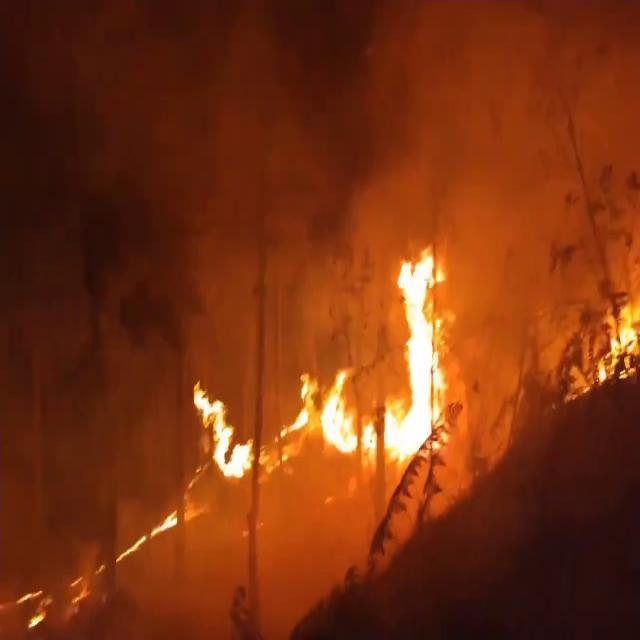Fire: (283, 240, 463, 473), (190, 374, 256, 486), (595, 279, 640, 384)
Smoke: (148, 1, 634, 327)
